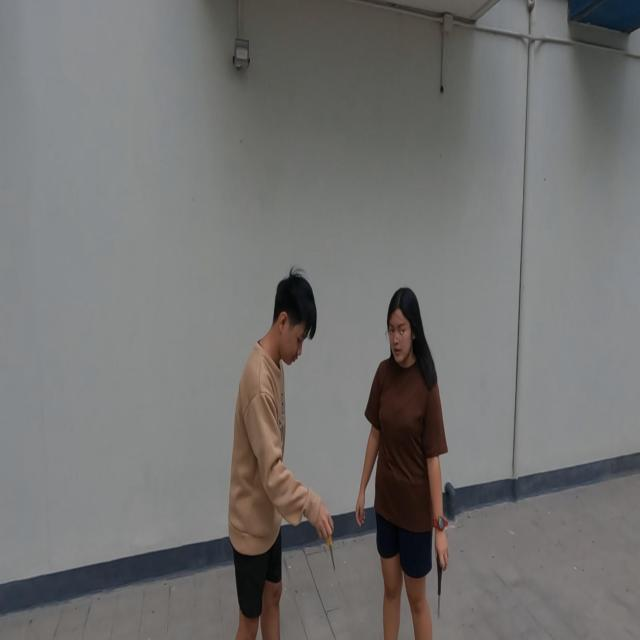scissor: (326, 526, 336, 572)
